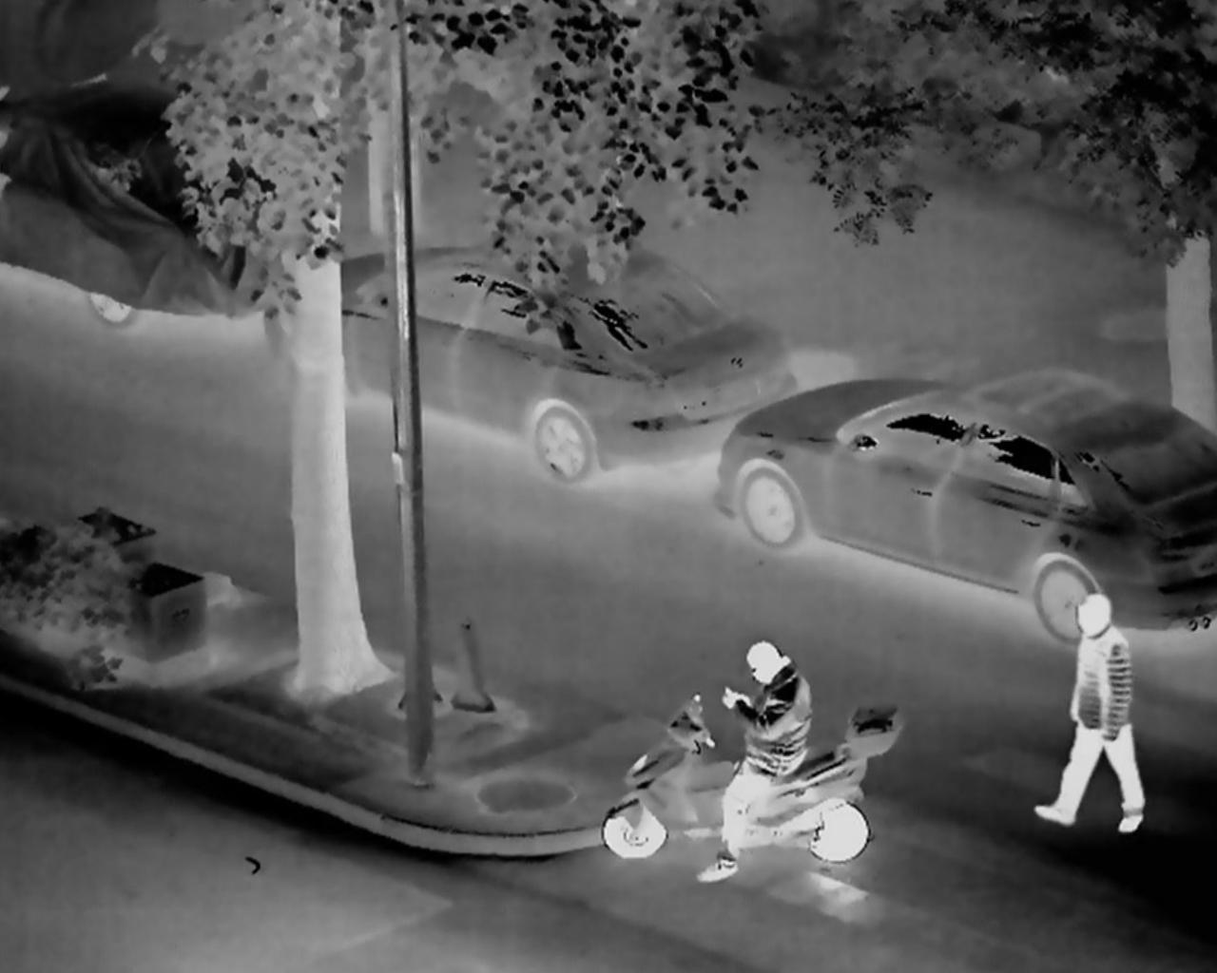person: (1025, 585, 1147, 846), (697, 625, 818, 887)
